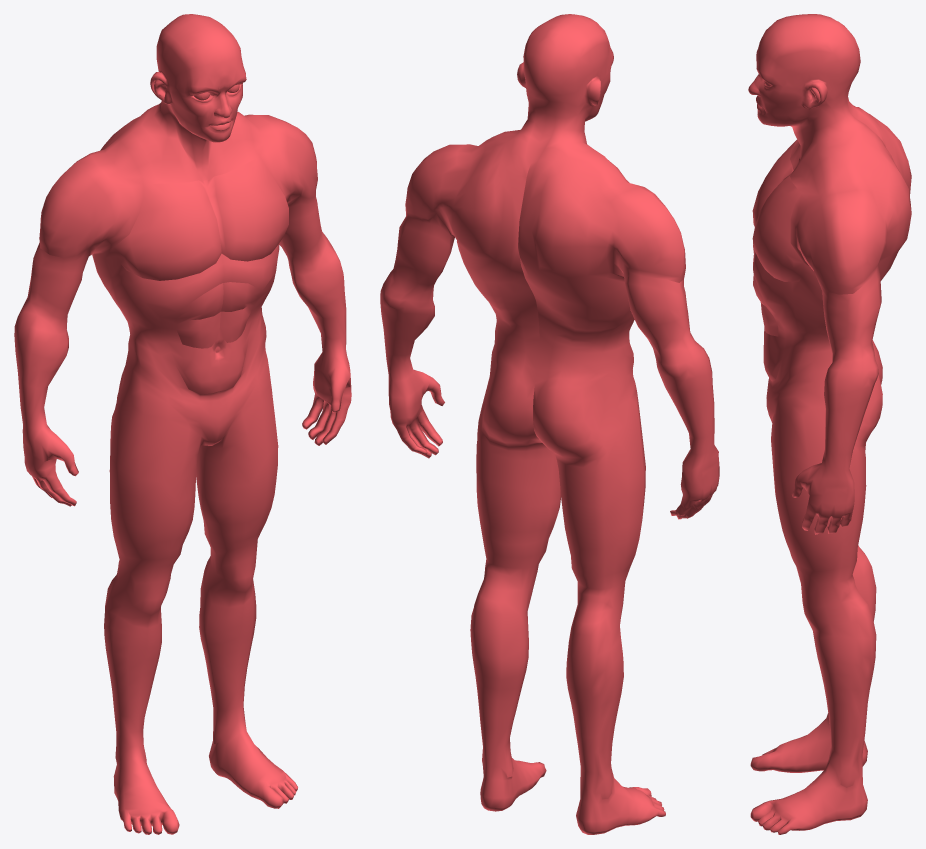
Rendered from man.glb.
The picture shows the model from 3 angles, left to right: view 1: azimuth 30°, elevation 25°; view 2: azimuth 150°, elevation 25°; view 3: azimuth 270°, elevation 25°; orthographic projection.
Parts seen in each view (by area): view 1: Man; view 2: Man; view 3: Man.
Part boxes in pixels (bbox=[...]): Man: bbox=[14, 14, 351, 834]; Man: bbox=[380, 14, 719, 834]; Man: bbox=[748, 14, 911, 834].
Size of the model in its own units: 1.2 by 2.79 by 0.5306.
Materials: 1 (1 with a texture image).
